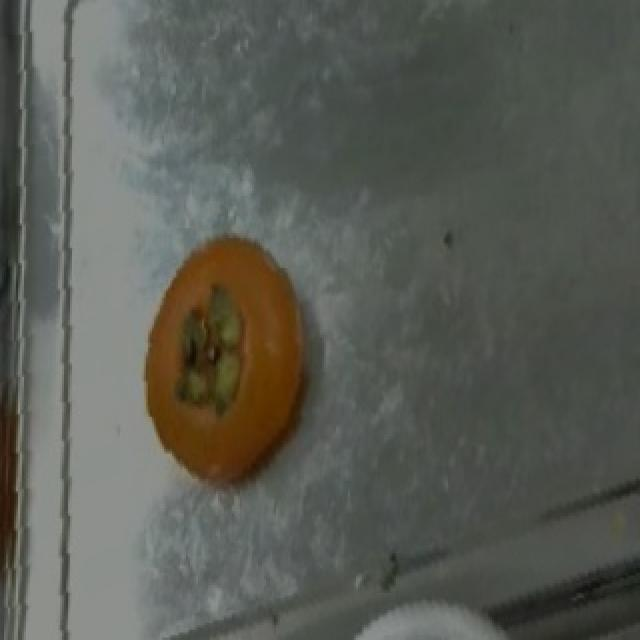Fruit: (132, 221, 328, 491), (330, 580, 542, 640)
